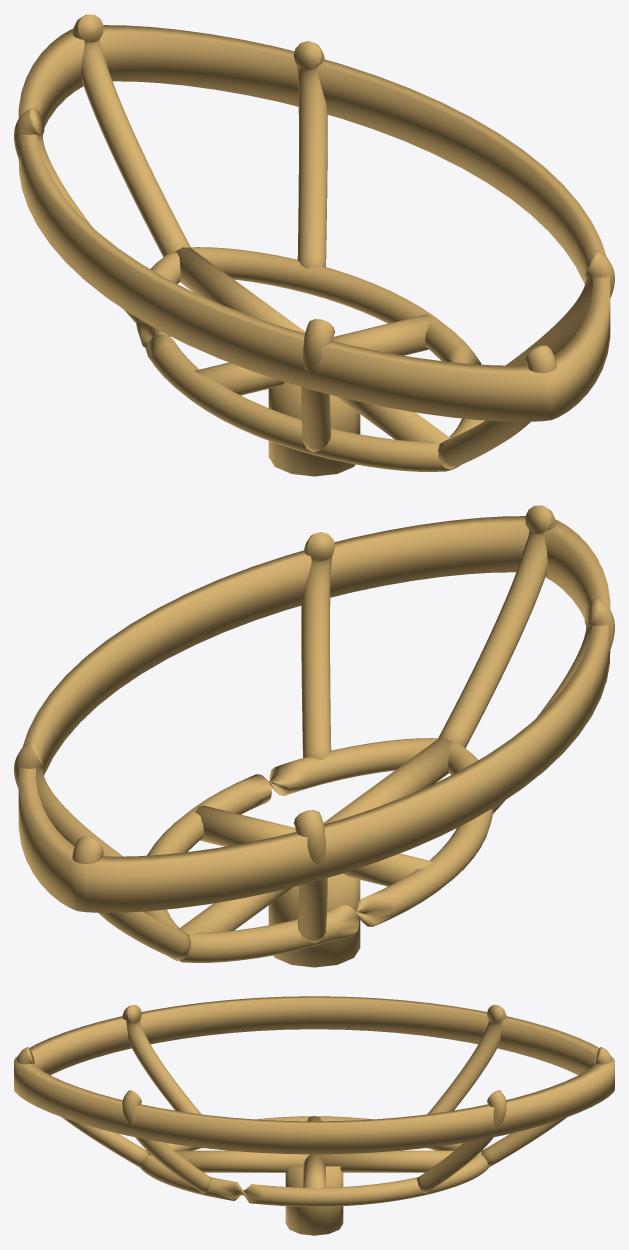
The model's file is stuller-lg-500127752-bezel.glb.
3 views of the same model, one above another, from view 1: azimuth 30°, elevation 25°; view 2: azimuth 150°, elevation 25°; view 3: azimuth 270°, elevation 25° (orthographic). The views are drawn at different scales.
Parts seen in each view (by area): view 1: Metal.233, Metal.228, Metal.238, Metal.234, Metal.227, Metal.230, Metal.239, Metal.236, Metal.229, Metal.237, Metal.232, Metal.231 (+1 smaller); view 2: Metal.233, Metal.228, Metal.239, Metal.237, Metal.227, Metal.232, Metal.238, Metal.235, Metal.229, Metal.234, Metal.230, Metal.231 (+1 smaller); view 3: Metal.233, Metal.228, Metal.230, Metal.232, Metal.227, Metal.235, Metal.236, Metal.234, Metal.237, Metal.239, Metal.238, Metal.229.
Boxes of the visible parts, x1,y1,x2,y2 form: Metal.233: (18,25,610,421); Metal.228: (135,247,484,471); Metal.238: (72,14,190,256); Metal.234: (293,41,327,268); Metal.227: (268,382,360,476); Metal.230: (175,247,305,333); Metal.239: (438,345,556,469); Metal.236: (301,319,334,451); Metal.229: (333,314,433,355); Metal.237: (505,250,614,365); Metal.232: (336,396,450,471); Metal.231: (195,362,284,395); Metal.233: (18,516,610,912); Metal.228: (144,738,493,962); Metal.239: (438,505,556,747); Metal.237: (301,532,335,759); Metal.227: (268,873,360,967); Metal.232: (323,738,453,824); Metal.238: (72,836,190,960); Metal.235: (293,810,327,942); Metal.229: (195,805,295,846); Metal.234: (14,741,123,856); Metal.230: (178,887,292,962); Metal.231: (344,853,433,886); Metal.233: (14,996,614,1154); Metal.228: (140,1116,488,1206); Metal.230: (319,1150,481,1172); Metal.232: (147,1150,309,1172); Metal.227: (285,1166,343,1235); Metal.235: (427,1004,506,1114); Metal.236: (122,1004,201,1114); Metal.234: (417,1090,506,1193); Metal.237: (122,1090,211,1193); Metal.239: (16,1047,147,1167); Metal.238: (481,1047,612,1167); Metal.229: (303,1154,325,1207).
Size of the model in its own units: 6.31 by 4.02 by 12.45.
